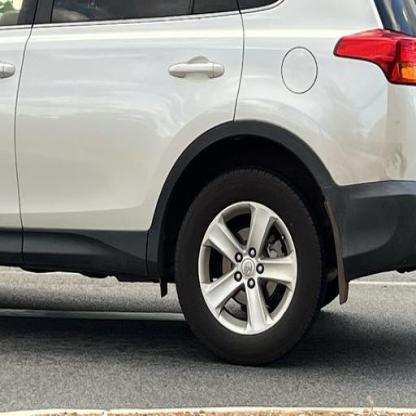Tire: (174, 169, 322, 365)
